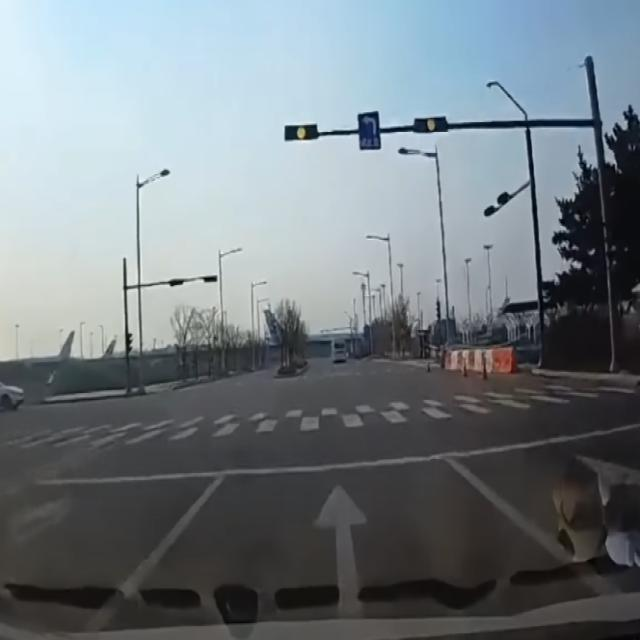Yellow Light: (425, 117, 437, 133), (296, 124, 306, 140)
